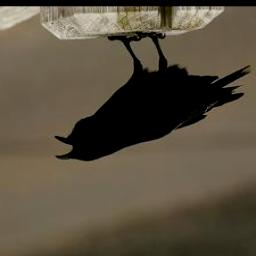Crow: (53, 31, 250, 162)
